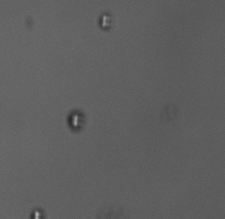Living Cell: (66, 108, 86, 133), (98, 12, 115, 29)
